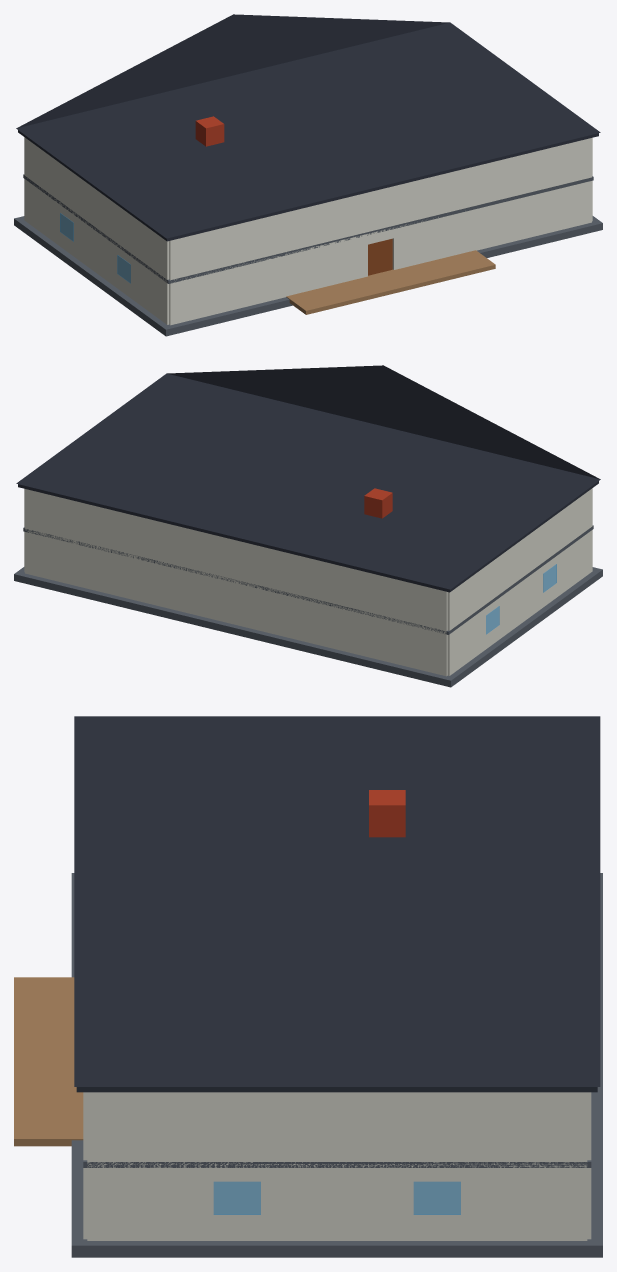
File: bp_proj1_1788450706931_American_Farmhouse_201225_full_pdf.obj
3 views of the same model, one above another, from view 1: azimuth 30°, elevation 25°; view 2: azimuth 150°, elevation 25°; view 3: azimuth 270°, elevation 25° (orthographic). The views are drawn at different scales.
Visible parts, largest first — view 1: Roof_Gable_Pitch, Ext_Wall_South_2F, Ext_Wall_South_L, Ext_Wall_South_R, Ext_Wall_West, Ext_Wall_West_2F, Porch_Deck, Foundation_Slab, Second_Floor_Slab, Roof_Cap_Base, Main_Door, Masonry_Chimney; view 2: Roof_Gable_Pitch, Ext_Wall_North, Ext_Wall_North_2F, Foundation_Slab, Ext_Wall_West, Ext_Wall_West_2F, Roof_Cap_Base, Second_Floor_Slab, Masonry_Chimney; view 3: Roof_Gable_Pitch, Ext_Wall_East, Ext_Wall_East_2F, Foundation_Slab, Porch_Deck, Roof_Cap_Base, Second_Floor_Slab, Masonry_Chimney, Window_East_1, Window_East_2.
Part boxes in pixels (left/top/right/bottom): Roof_Gable_Pitch: left=16, top=14, right=600, bottom=238; Ext_Wall_South_2F: left=169, top=138, right=591, bottom=280; Ext_Wall_South_L: left=169, top=234, right=367, bottom=325; Ext_Wall_South_R: left=392, top=181, right=591, bottom=269; Ext_Wall_West: left=24, top=179, right=169, bottom=324; Ext_Wall_West_2F: left=24, top=137, right=169, bottom=280; Porch_Deck: left=286, top=250, right=495, bottom=314; Foundation_Slab: left=14, top=216, right=602, bottom=336; Second_Floor_Slab: left=23, top=174, right=593, bottom=283; Roof_Cap_Base: left=18, top=130, right=598, bottom=241; Main_Door: left=368, top=238, right=392, bottom=275; Masonry_Chimney: left=195, top=116, right=224, bottom=146; Roof_Gable_Pitch: left=16, top=365, right=600, bottom=589; Ext_Wall_North: left=25, top=531, right=447, bottom=676; Ext_Wall_North_2F: left=25, top=489, right=447, bottom=632; Foundation_Slab: left=14, top=567, right=602, bottom=687; Ext_Wall_West: left=447, top=530, right=592, bottom=675; Ext_Wall_West_2F: left=447, top=488, right=592, bottom=630; Roof_Cap_Base: left=18, top=481, right=598, bottom=592; Second_Floor_Slab: left=23, top=525, right=593, bottom=634; Masonry_Chimney: left=364, top=488, right=392, bottom=518; Roof_Gable_Pitch: left=74, top=716, right=600, bottom=1086; Ext_Wall_East: left=87, top=1165, right=587, bottom=1240; Ext_Wall_East_2F: left=87, top=1092, right=587, bottom=1164; Foundation_Slab: left=71, top=873, right=602, bottom=1257; Porch_Deck: left=14, top=977, right=83, bottom=1146; Roof_Cap_Base: left=76, top=1087, right=597, bottom=1092; Second_Floor_Slab: left=83, top=1160, right=591, bottom=1167; Masonry_Chimney: left=369, top=790, right=405, bottom=837; Window_East_1: left=413, top=1181, right=460, bottom=1214; Window_East_2: left=213, top=1181, right=260, bottom=1214.
Size of the model in its own units: 33.7 by 12.11 by 22.5.
